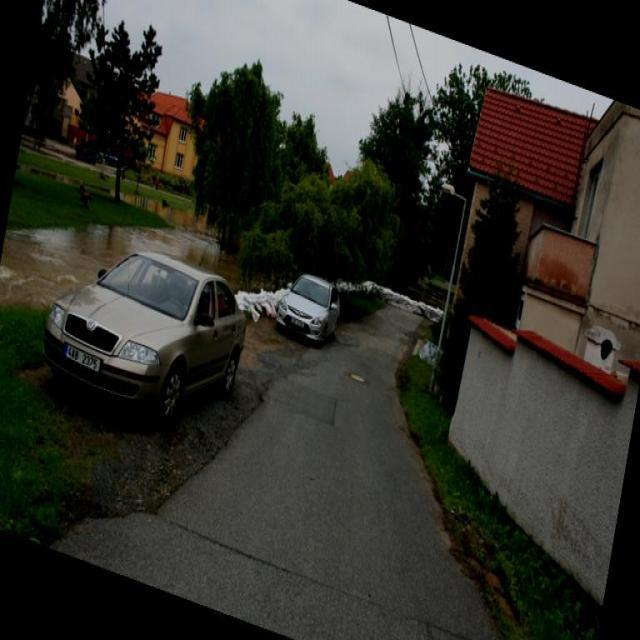flood: (0, 140, 253, 390)
